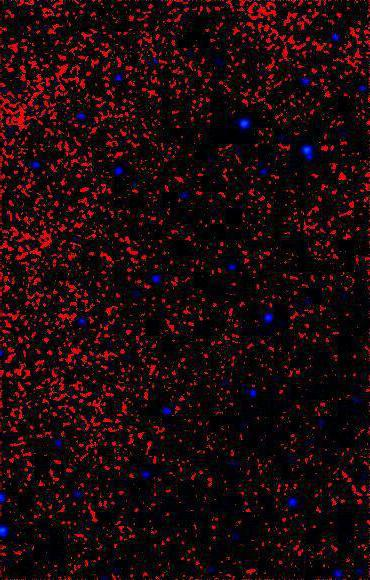star: (299, 152, 329, 182)
